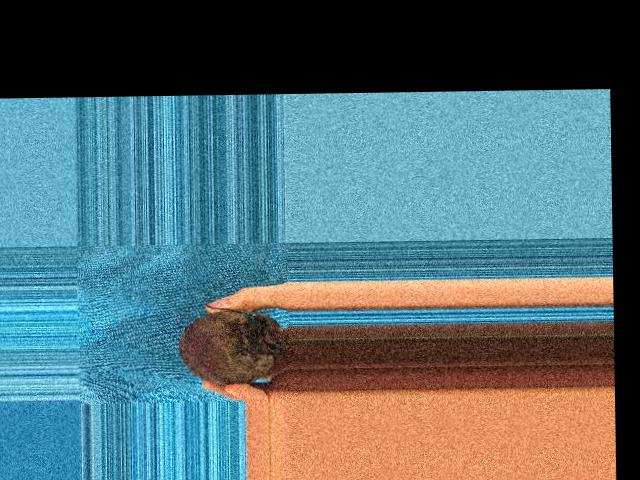beet: (178, 300, 288, 385)
